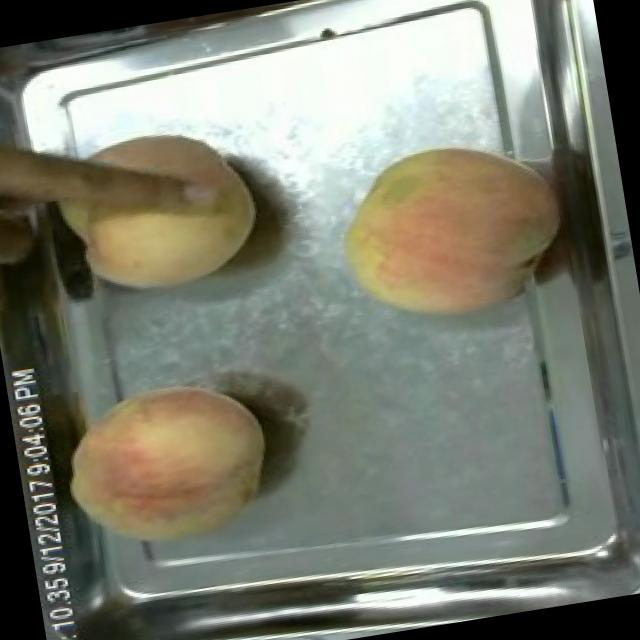Fruit: (319, 121, 582, 342), (35, 104, 279, 318), (46, 362, 289, 574)
